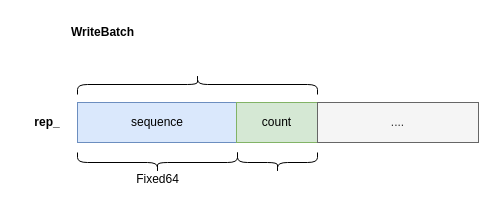
This 496x211 diagram has some shape labels left out. The shapes that lost their labels are listed below. From the top down, each one's centre as x and y in pixels, then its label:
At point (197, 84): "Header".
At point (277, 162): "Fixed32".
